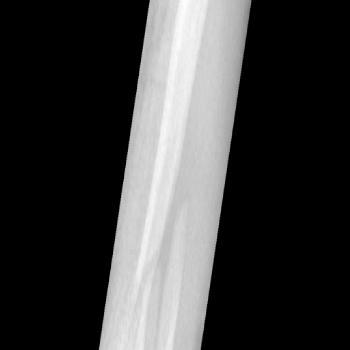Fracture: (130, 253, 161, 314)
